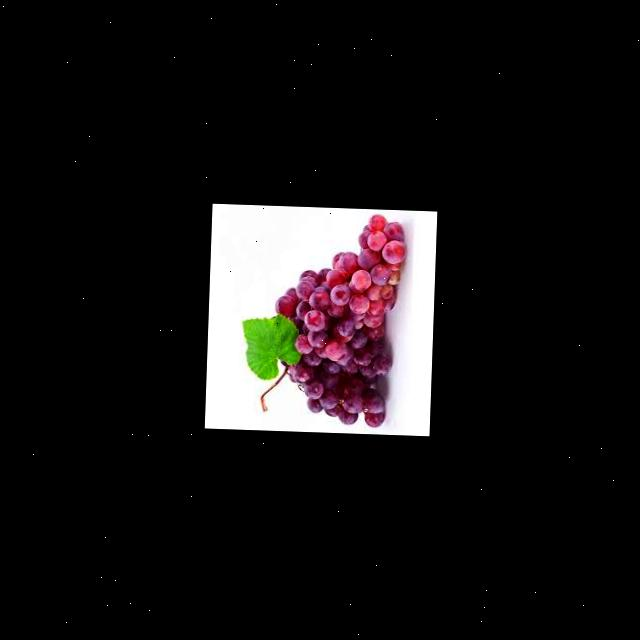grape: (267, 210, 405, 428)
